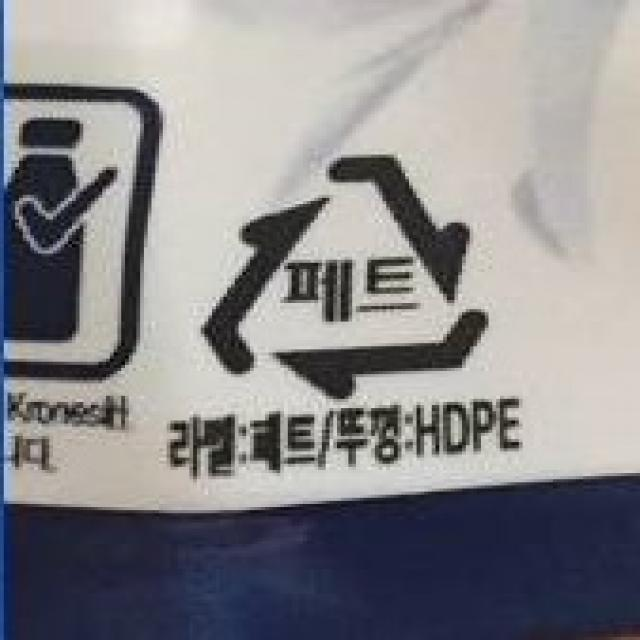PET: (191, 151, 503, 408)
